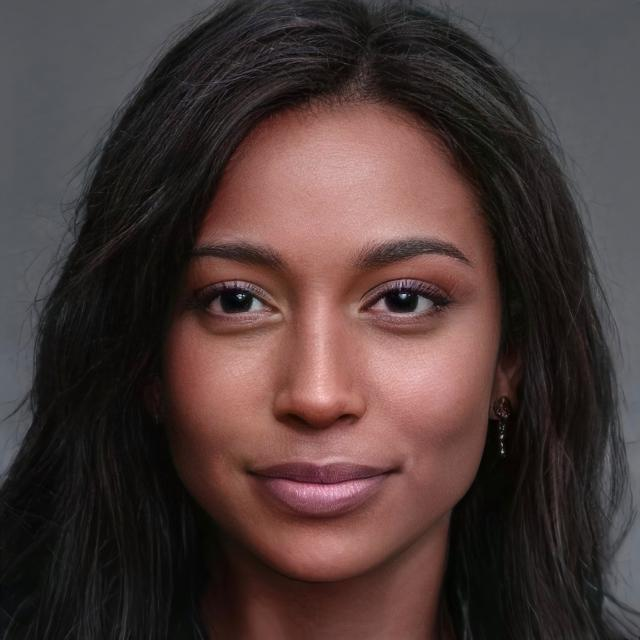adult: (12, 0, 627, 640)
